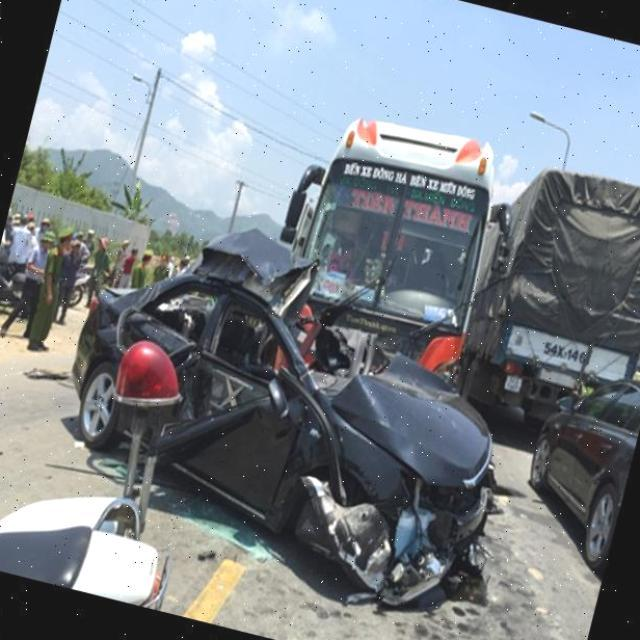accident: (10, 184, 566, 640)
